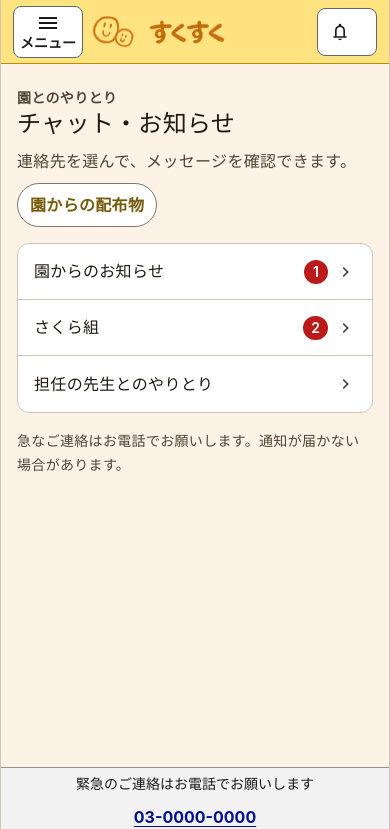
Test: 保護者のログアウト：保存していない入力（#170 の 5） › 保存していない入力が無ければ、確かめずにログアウトする
Click the button "担任の先生とのやりとり". click: coordinates (195, 384)
box: [18,356,372,412]
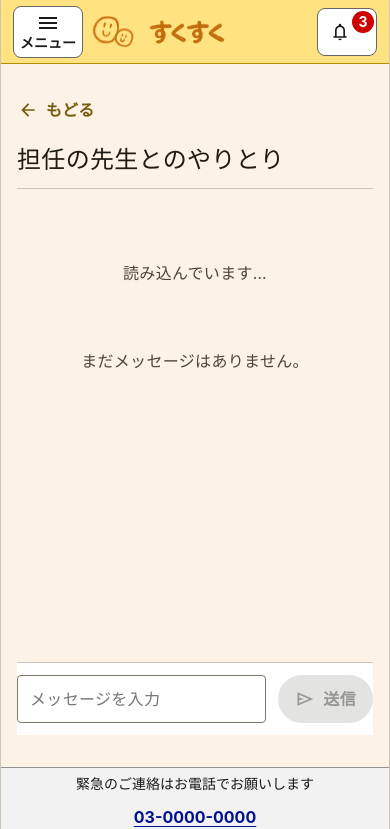
Click the button with aria-label "メニューを開く". click: coordinates (48, 32)
box: [13,6,83,58]
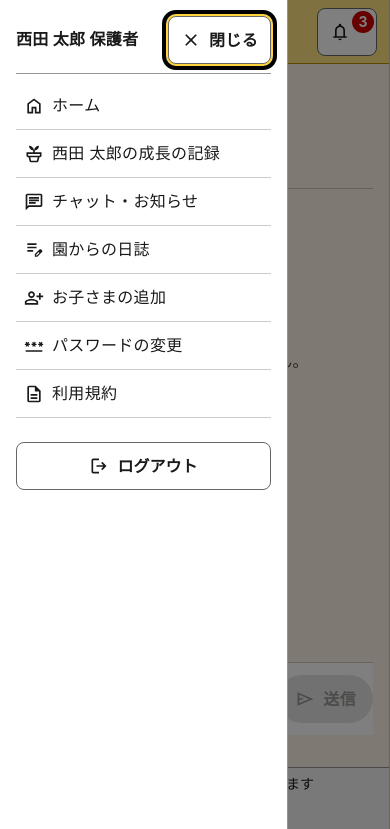
Click the button "ログアウト". click: coordinates (144, 466)
box: [16,442,271,490]
(page scrolled)
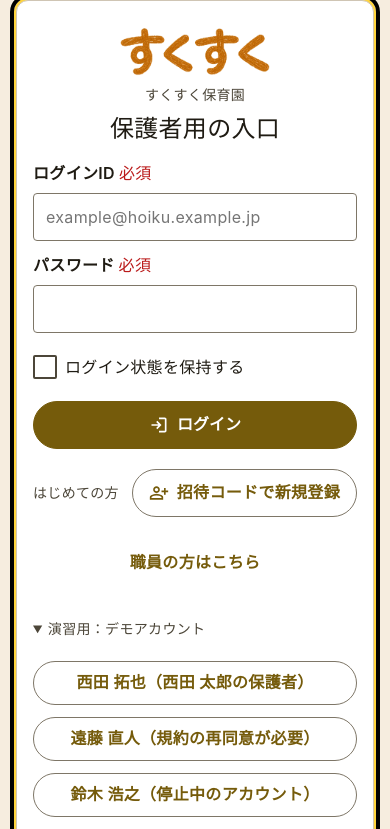
Result: the heading "保護者用の入口" is shown at [110,114,280,143]
